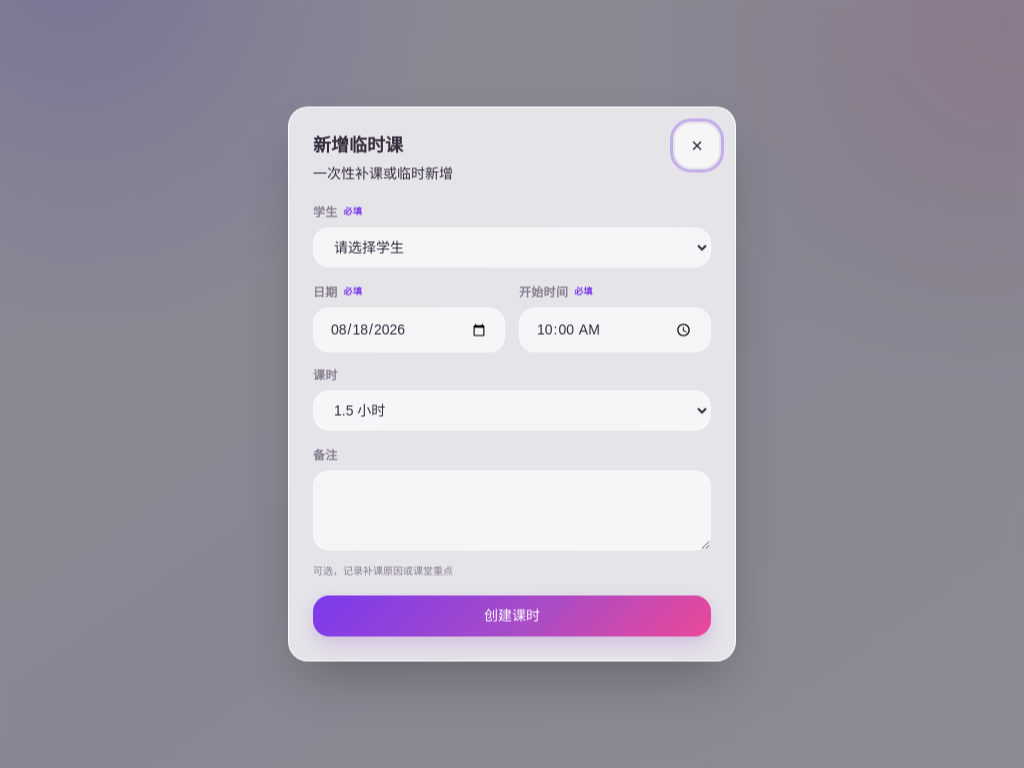
Test case: CreateLessonModal › shows selected student context and a live estimate
This screenshot has width=1024, height=768.
Select "林沐" in the dropdown with id "create-lesson-student". click: (512, 248)
box: [313,228,711,268]
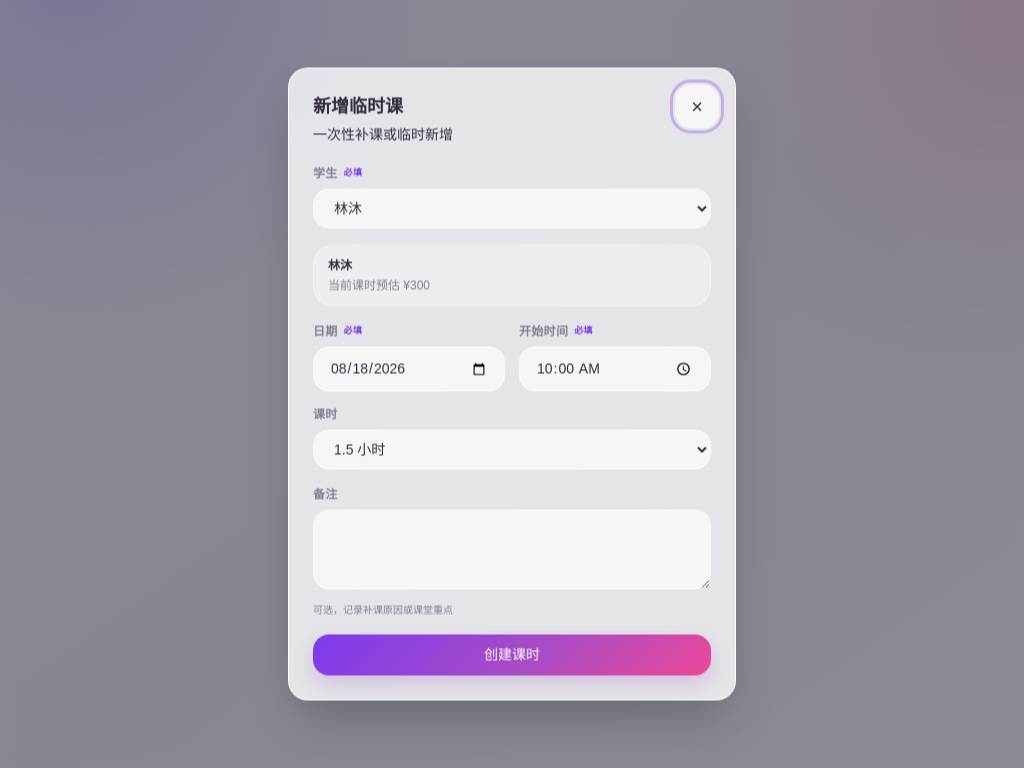
Expected: the dialog is shown, [288,68,736,700]
Now the text "林沐" is shown, box [328,258,352,272]
Now the text "¥300" is shown, box [328,278,430,292]
